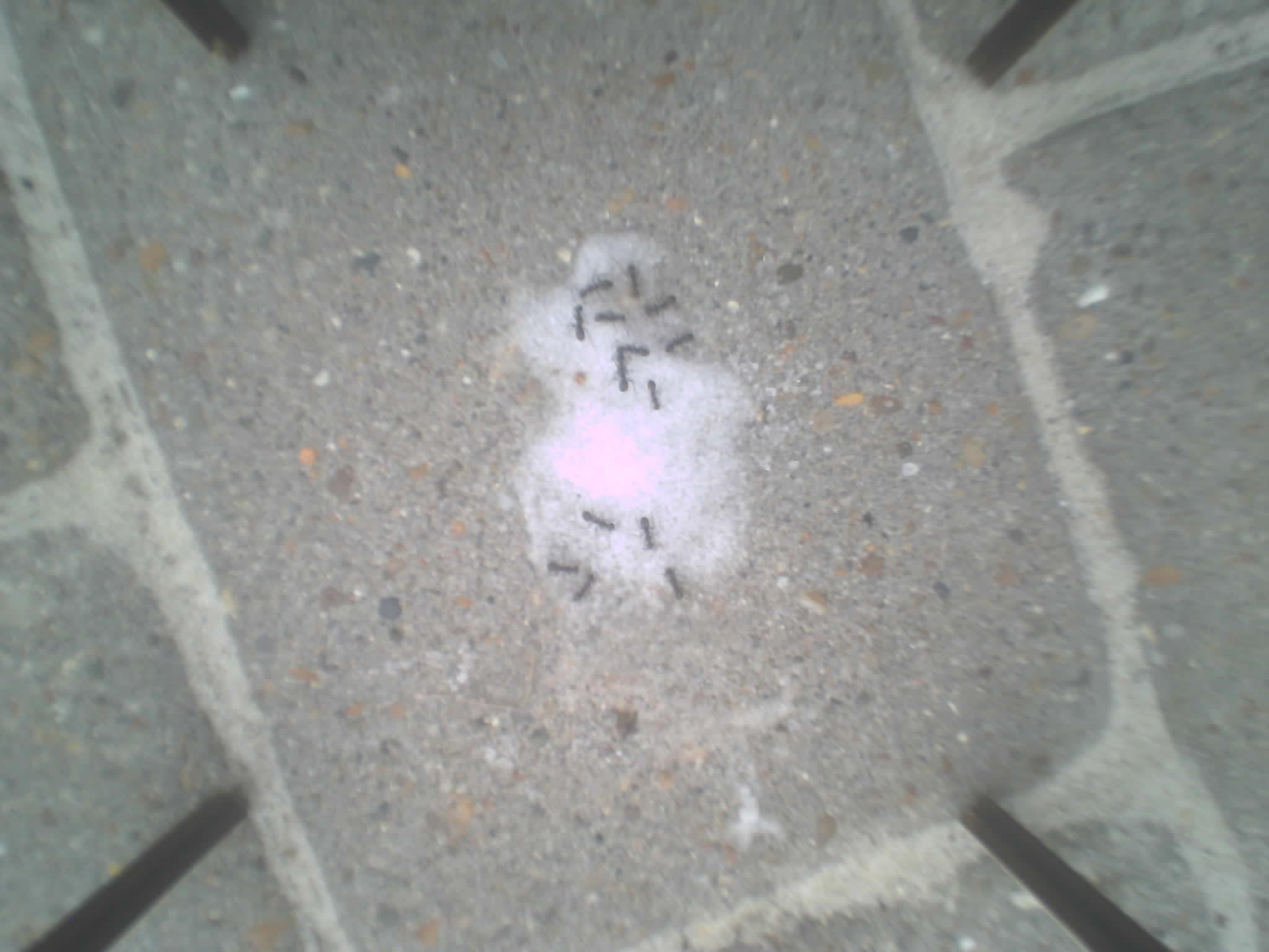Ant: (581, 510, 617, 532), (579, 278, 615, 300), (573, 573, 598, 603), (666, 329, 697, 351), (646, 293, 678, 314), (665, 568, 685, 601), (614, 353, 630, 394), (618, 340, 652, 359), (592, 308, 625, 327), (572, 303, 588, 342), (647, 377, 664, 412), (547, 559, 580, 577), (630, 262, 644, 301), (642, 517, 657, 550)
